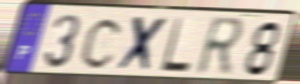3: (42, 13, 82, 71)
8: (243, 17, 283, 80)
C: (79, 15, 125, 71)
L: (158, 17, 193, 75)
R: (193, 15, 248, 79)
X: (113, 14, 171, 76)
